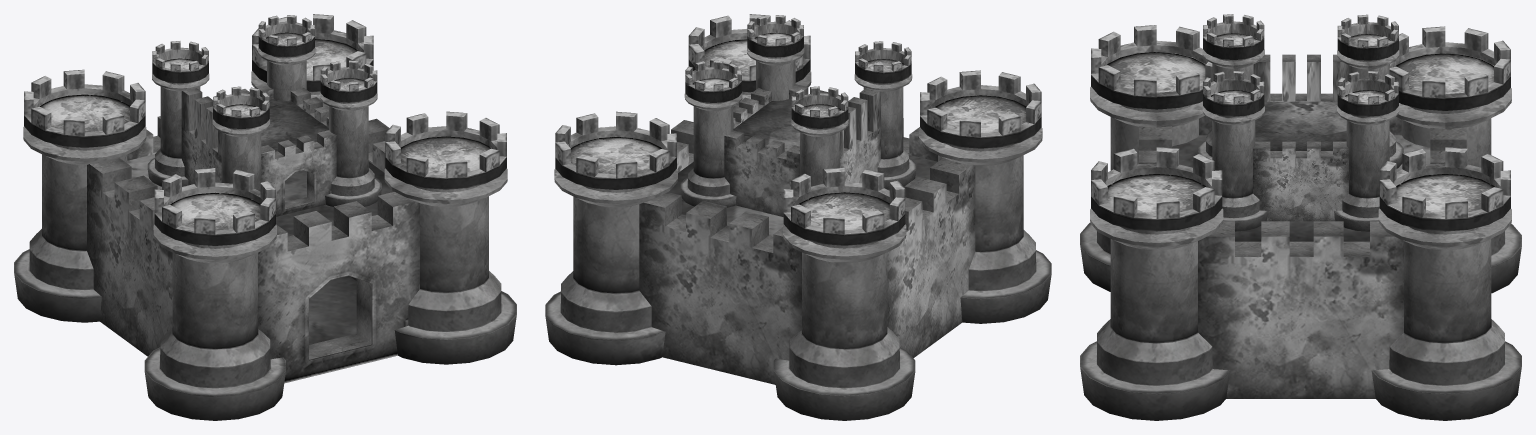
Rendered from landmark-stronghold.glb.
3 renders of one model, left to right at view 1: azimuth 30°, elevation 25°; view 2: azimuth 150°, elevation 25°; view 3: azimuth 270°, elevation 25°, orthographic. The views are drawn at different scales.
Parts seen in each view (by area): view 1: P_tkn_Stronghold; view 2: P_tkn_Stronghold; view 3: P_tkn_Stronghold.
Boxes of the visible parts, x1,y1,x2,y2 form: P_tkn_Stronghold: (14, 14, 516, 420); P_tkn_Stronghold: (545, 14, 1051, 420); P_tkn_Stronghold: (1080, 14, 1521, 420).
Bounding box in the file's own units: 0.3317 × 0.2252 × 0.3299.
1 material, 1 textured.
